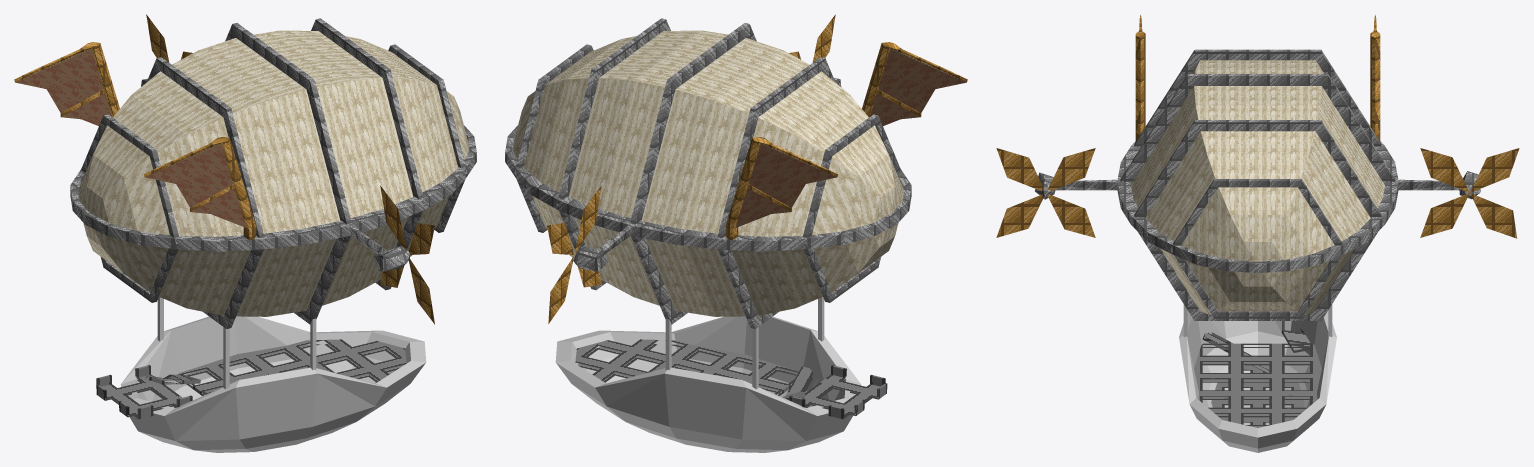
File: zeppelin.obj
3 views of the same model, side by side, from view 1: azimuth 30°, elevation 25°; view 2: azimuth 150°, elevation 25°; view 3: azimuth 270°, elevation 25° (orthographic). The views are drawn at different scales.
Parts seen in each view (by area): view 1: Sphere_Sphere_Material, Sphere, Circle_Circle_Material.wood_58.png, Cube_Cube.001_Cube_Cube.001_Material.002, Sphere.001_Sphere.001_Material.wood_58.png, Sphere.002, Cube.001_Cube.002_Cube.001_Cube.002_Material.wood, Circle.003_Circle.003_Material.002_54.png, Cube.001_Cube.002, Circle.002_Circle.002_Material.wood_58.png, Cube; view 2: Sphere_Sphere_Material, Sphere, Circle_Circle_Material.wood_58.png, Cube_Cube.001_Cube_Cube.001_Material.002, Sphere.001_Sphere.001_Material.wood_58.png, Sphere.002, Cube.001_Cube.002_Cube.001_Cube.002_Material.wood, Circle.003_Circle.003_Material.002_54.png, Cube.001_Cube.002, Cube, Circle.002_Circle.002_Material.wood_58.png, Plane; view 3: Sphere_Sphere_Material, Circle_Circle_Material.wood_58.png, Sphere, Circle.003_Circle.003_Material.002_54.png, Sphere.002, Sphere.001_Sphere.001_Material.wood_58.png, Cube.001_Cube.002_Cube.001_Cube.002_Material.wood, Circle.002_Circle.002_Material.wood_58.png, Sphere.001.
Boxes of the visible parts, x1,y1,x2,y2 form: Sphere_Sphere_Material: (78,30,468,316); Sphere: (120,316,426,452); Circle_Circle_Material.wood_58.png: (81,18,467,328); Cube_Cube.001_Cube_Cube.001_Material.002: (15,48,246,227); Sphere.001_Sphere.001_Material.wood_58.png: (70,125,476,251); Sphere.002: (178,339,406,395); Cube.001_Cube.002_Cube.001_Cube.002_Material.wood: (14,42,256,240); Circle.003_Circle.003_Material.002_54.png: (146,14,434,324); Cube.001_Cube.002: (96,365,192,419); Circle.002_Circle.002_Material.wood_58.png: (141,78,409,271); Cube: (157,297,316,389); Sphere_Sphere_Material: (513,30,903,316); Sphere: (555,316,861,452); Circle_Circle_Material.wood_58.png: (514,18,900,328); Cube_Cube.001_Cube_Cube.001_Material.002: (735,48,966,227); Sphere.001_Sphere.001_Material.wood_58.png: (505,125,911,251); Sphere.002: (575,339,798,395); Cube.001_Cube.002_Cube.001_Cube.002_Material.wood: (725,42,967,240); Circle.003_Circle.003_Material.002_54.png: (547,14,835,323); Cube.001_Cube.002: (789,365,887,419); Cube: (665,297,824,389); Circle.002_Circle.002_Material.wood_58.png: (573,78,841,271); Plane: (785,366,817,395); Sphere_Sphere_Material: (1131,60,1384,314); Circle_Circle_Material.wood_58.png: (1117,49,1398,320); Sphere: (1179,310,1336,452); Circle.003_Circle.003_Material.002_54.png: (996,148,1519,238); Sphere.002: (1194,343,1321,427); Sphere.001_Sphere.001_Material.wood_58.png: (1117,141,1398,273); Cube.001_Cube.002_Cube.001_Cube.002_Material.wood: (1135,15,1380,141); Circle.002_Circle.002_Material.wood_58.png: (1035,171,1480,199); Sphere.001: (1211,365,1304,424).
Size of the model in its own units: 19.57 by 18.92 by 25.58.
